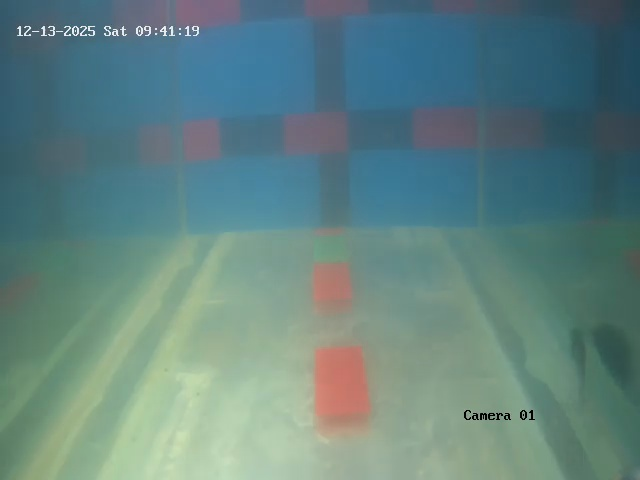fish: (565, 318, 601, 398)
